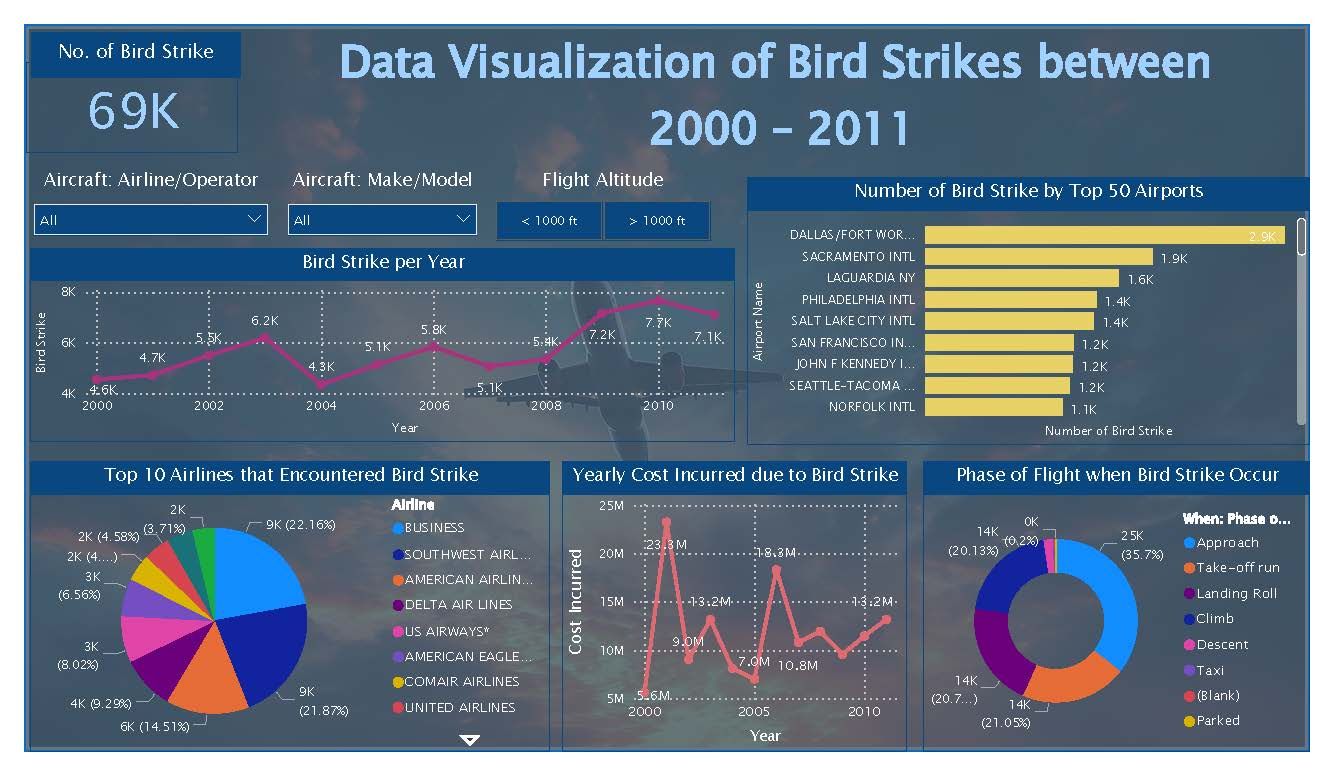

The dashboard page shown, as its layout file describes it:
{"tool":"powerbi","page":{"name":"Dashboard 1","canvas":[1280,720],"ordinal":0},"visuals":[{"type":"image","box":[0,0,1271.5,719.7],"z":0},{"type":"shape","box":[0,0,1271.5,719.7],"z":1000},{"type":"card","title":"No. of Bird Strike","fields":{"Values":["Sum(Bird Strikes.Wildlife: Number Struck Actual)"]},"box":[1.5,37,210.2,89.2],"z":1503,"group":"g1"},{"type":"textbox","box":[214.7,0,1056.8,148.2],"z":2000},{"type":"textbox","box":[6.4,7.6,207.1,45],"z":2003,"group":"g1"},{"type":"lineChart","title":"Bird Strike per Year","fields":{"Category":["Calendar.Date.Variation.Date Hierarchy.Year"],"Y":["Sum(Bird Strikes.Wildlife: Number Struck Actual)"]},"box":[6,220.7,697,192],"z":3000},{"type":"pieChart","title":" Top 10 Airlines that Encountered Bird Strike","fields":{"Y":["Sum(Bird Strikes.Wildlife: Number Struck Actual)"],"Category":["Bird Strikes.Aircraft: Airline/Operator"]},"box":[6,432.4,514.1,287.3],"z":4000},{"type":"slicer","title":"Aircraft: Airline/Operator","fields":{"Values":["Bird Strikes.Aircraft: Airline/Operator"]},"box":[0,140.6,251,74.1],"z":5000},{"type":"lineChart","title":"Yearly Cost Incurred due to Bird Strike ","fields":{"Category":["Calendar.Date.Variation.Date Hierarchy.Year"],"Y":["Sum(Bird Strikes.Cost: Total $)"]},"box":[532.2,432.4,341.7,287.3],"z":6000},{"type":"group","id":"g1","title":"Group 1","box":[1.5,7.6,212.1,118.6],"z":7000},{"type":"slicer","title":"Aircraft: Make/Model","fields":{"Values":["Bird Strikes.Aircraft: Make/Model"]},"box":[251,140.6,207.1,80.1],"z":8000},{"type":"donutChart","title":"Phase of Flight when Bird Strike Occur","fields":{"Y":["Sum(Bird Strikes.Wildlife: Number Struck Actual)"],"Category":["Bird Strikes.When: Phase of flight"]},"box":[889,432.4,382.5,287.3],"z":9000},{"type":"slicer","title":"Flight Altitude","fields":{"Values":["Bird Strikes.Altitude bin"]},"box":[441.5,140.6,261.6,80.1],"z":10000},{"type":"barChart","title":"Number of Bird Strike by Top 50 Airports","fields":{"Category":["Bird Strikes.Airport: Name"],"Y":["Sum(Bird Strikes.Wildlife: Number Struck Actual)"]},"box":[715.1,151.2,556.4,264.6],"z":11000}]}

Visuals, with their boxes on the page's 1280x720 design canvas (x1, y1, x2, y2). These are canvas units, not pixel positions in the 1342x776 screenshot, which may show the page scaled, cropped or inside an application window:
image: (0,0,1272,720)
shape: (0,0,1272,720)
"No. of Bird Strike" card: (2,37,212,126)
textbox: (215,0,1272,148)
textbox: (6,8,214,53)
"Bird Strike per Year" lineChart: (6,221,703,413)
" Top 10 Airlines that Encountered Bird Strike" pieChart: (6,432,520,720)
"Aircraft: Airline/Operator" slicer: (0,141,251,215)
"Yearly Cost Incurred due to Bird Strike " lineChart: (532,432,874,720)
"Group 1" group: (2,8,214,126)
"Aircraft: Make/Model" slicer: (251,141,458,221)
"Phase of Flight when Bird Strike Occur" donutChart: (889,432,1272,720)
"Flight Altitude" slicer: (442,141,703,221)
"Number of Bird Strike by Top 50 Airports" barChart: (715,151,1272,416)
